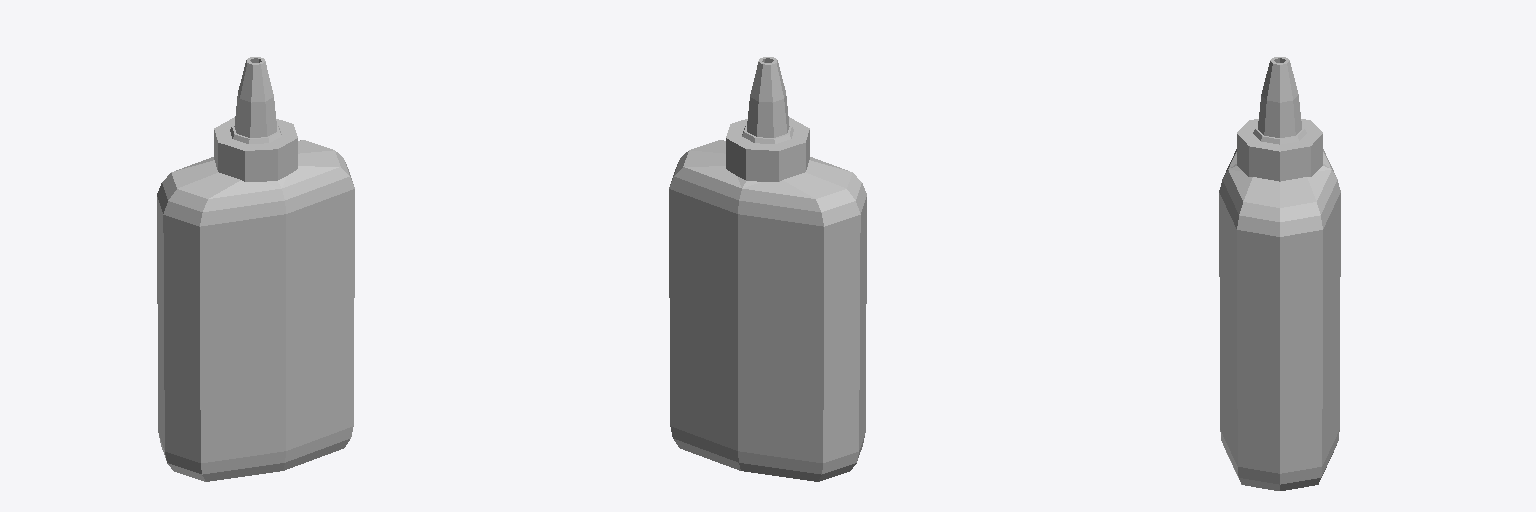
File: Gloop.obj
3 renders of one model, left to right at view 1: azimuth 30°, elevation 25°; view 2: azimuth 150°, elevation 25°; view 3: azimuth 270°, elevation 25°, orthographic.
Size of the model in its own units: 1.66 by 3.35 by 0.9457.